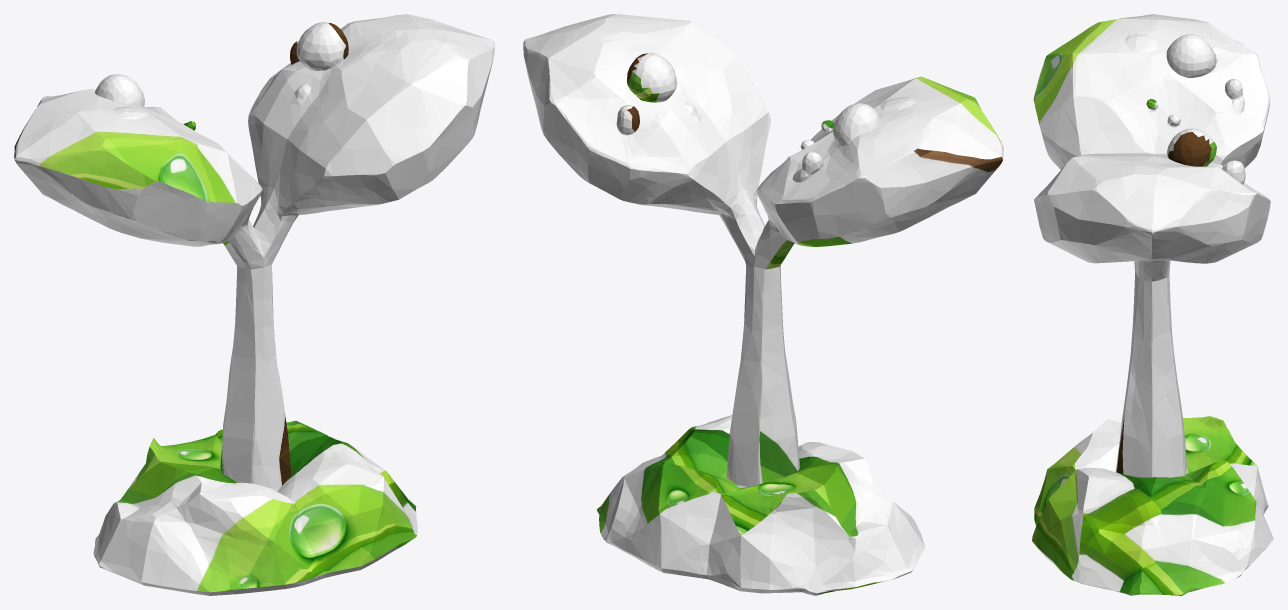
Rendered from DewLeaf_seedling.obj.
3 views of the same model, side by side, from view 1: azimuth 30°, elevation 25°; view 2: azimuth 150°, elevation 25°; view 3: azimuth 270°, elevation 25° (orthographic). The views are drawn at different scales.
Parts seen in each view (by area): view 1: DewLeaf_seedling; view 2: DewLeaf_seedling; view 3: DewLeaf_seedling.
Part boxes in pixels (bbox=[...]): DewLeaf_seedling: bbox=[14, 14, 494, 595]; DewLeaf_seedling: bbox=[523, 14, 1003, 595]; DewLeaf_seedling: bbox=[1032, 14, 1273, 595].
Size of the model in its own units: 1.26 by 1.2 by 0.5938.
